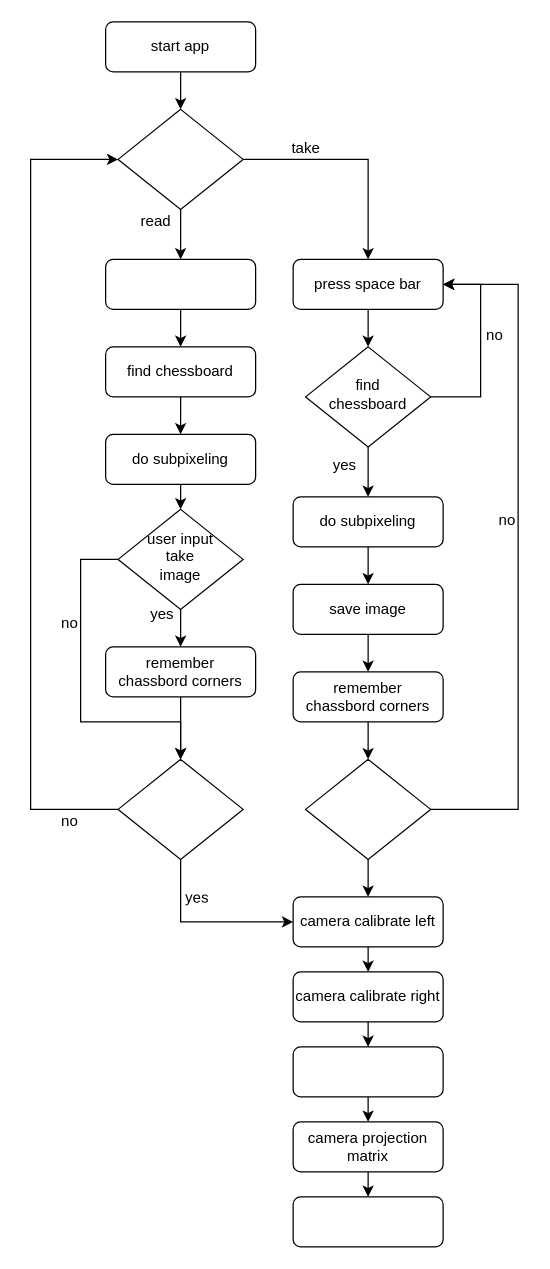
This 550x1269 diagram has some shape labels left out. Each missing label, with the box of its shape:
all images in folder: (117, 758, 243, 859)
press q and picCounter > 15: (304, 758, 431, 859)
read image: (104, 258, 256, 309)
read or take photos: (117, 108, 243, 209)
save matrix: (292, 1196, 443, 1247)
stereo calibration: translation/rotation: (292, 1046, 443, 1097)
